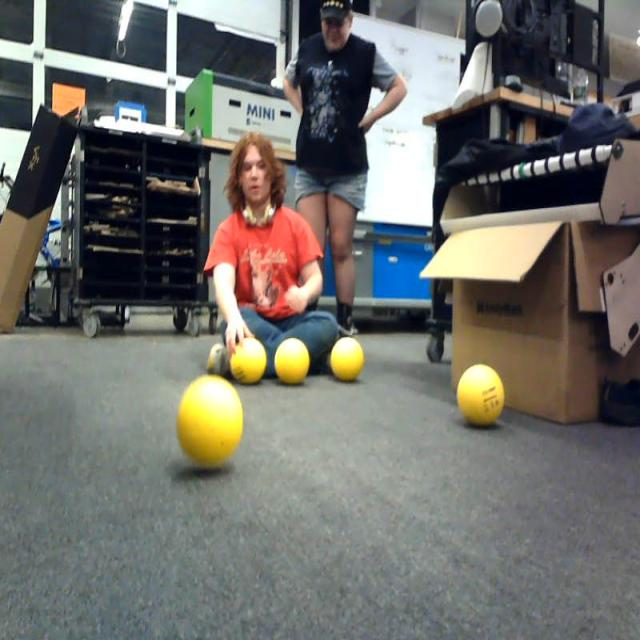Fuel: (176, 375, 243, 468), (457, 364, 504, 427), (230, 338, 267, 384), (274, 338, 310, 385), (330, 337, 364, 382)
